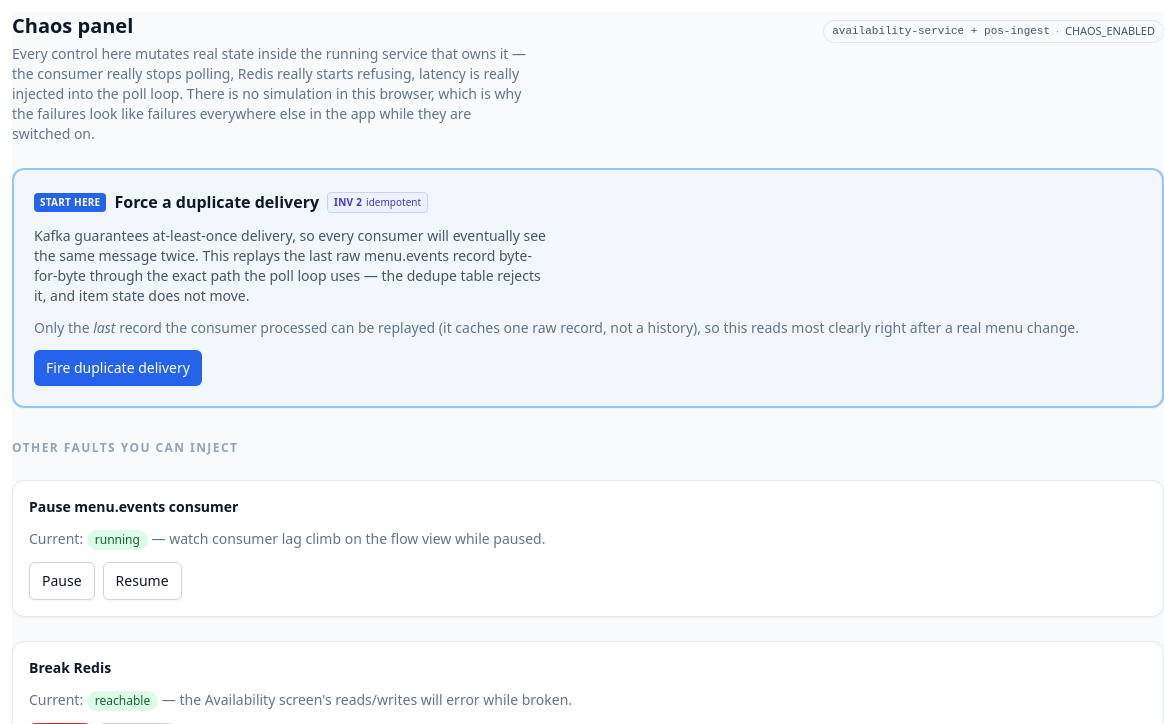
Scenario: ChaosPanel duplicate delivery › shows the replay as rejected and the item state unchanged
The width and height of the screenshot is (1164, 724).
Check: the heading "Force a duplicate delivery" is shown, box [114,190,319,214]
What coordinates should you click on to do the following:
click the button "Fire duplicate delivery"
I would click on:
 (118, 368)
Its box is [34,350,202,386].
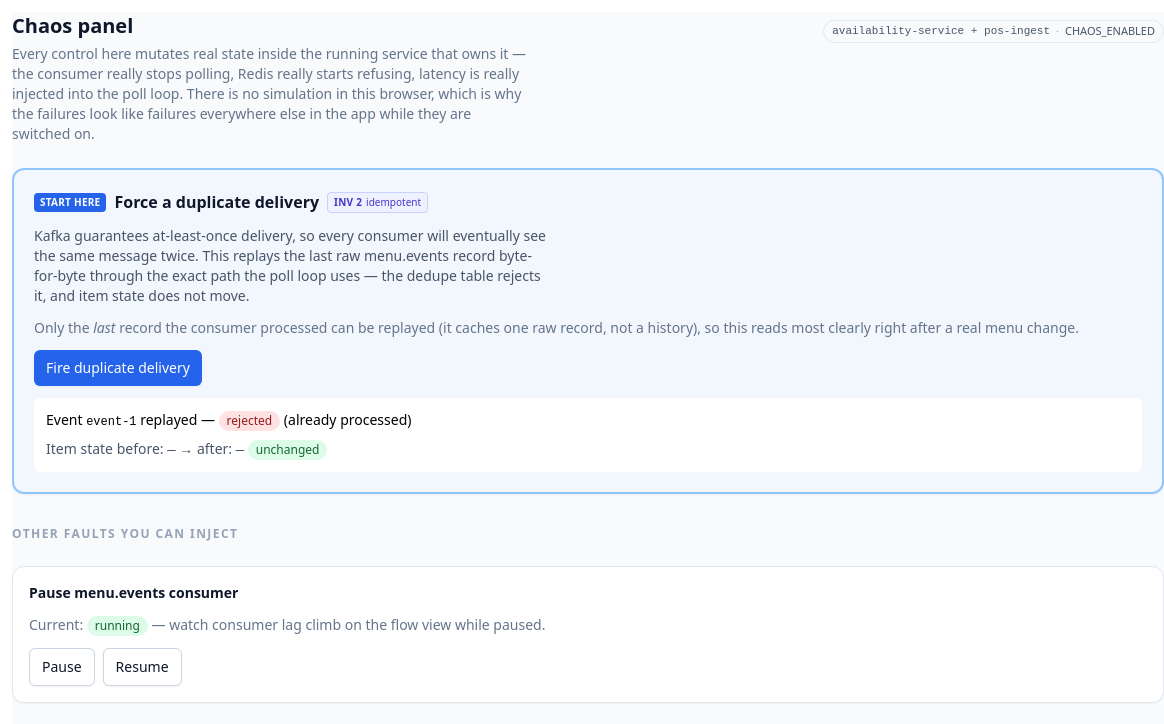
Check: the text "rejected" is shown, box [219,411,280,431]
Check: the text "already processed" is shown, box [288,410,407,429]
Check: the text "unchanged" is shown, box [248,440,328,460]
